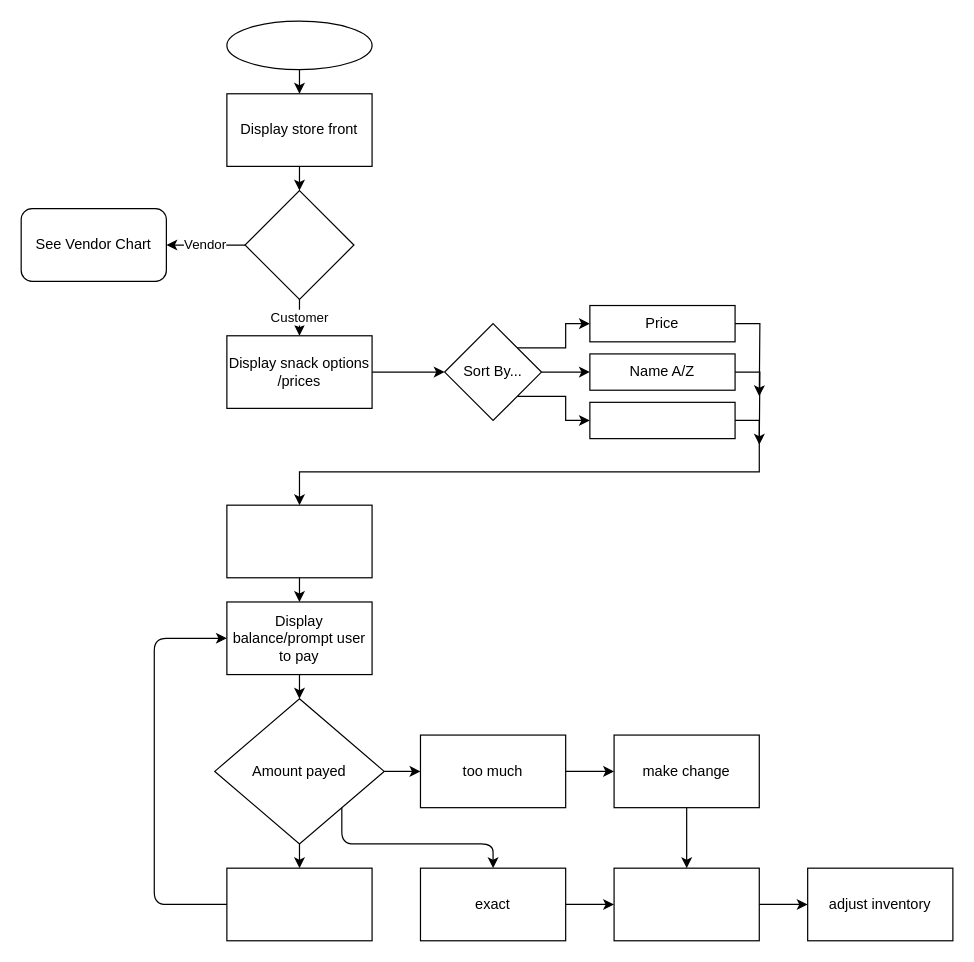
The diagram is 974 pixels wide and 962 high, and some of its shapes have lost their labels. Here are the shapes that lost their labels. From the top down, the centre of each, then its label:
At (299,45): "Start".
At (299,244): "Customer or Vendor?".
At (662,420): "Type".
At (299,541): "Prompt user to make a selection".
At (299,904): "not enough".
At (686,904): "dispense product".
